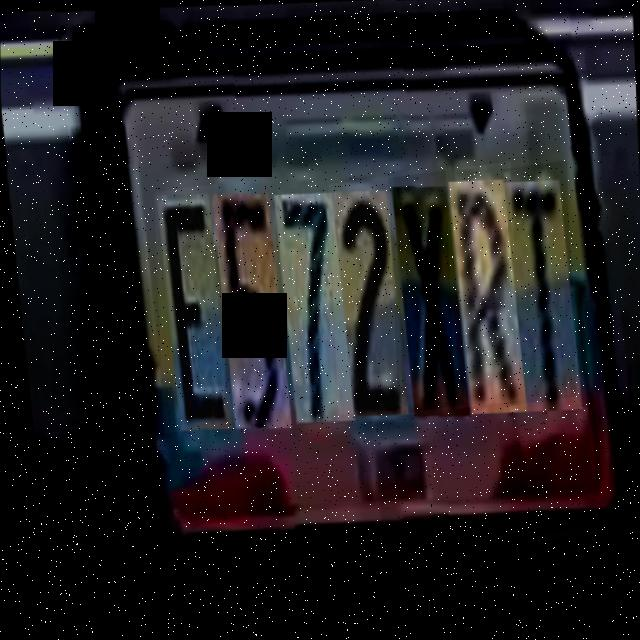2: (328, 183, 402, 423)
5: (209, 186, 285, 436)
7: (270, 185, 349, 430)
E: (153, 188, 226, 438)
R: (445, 171, 519, 419)
T: (500, 172, 576, 417)
X: (388, 178, 463, 423)
